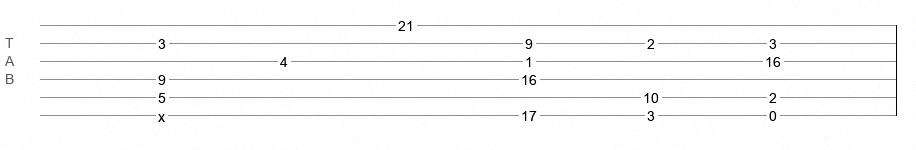0: (769, 108, 777, 118)
1: (525, 54, 533, 64)
10: (643, 90, 659, 100)
16: (521, 72, 537, 82), (765, 54, 781, 64)
17: (521, 108, 537, 118)
2: (647, 36, 655, 46), (769, 90, 777, 100)
21: (398, 18, 414, 28)
3: (158, 36, 166, 46), (647, 108, 655, 118), (769, 36, 777, 46)
4: (280, 54, 288, 64)
5: (158, 90, 166, 100)
9: (158, 72, 166, 82), (525, 36, 533, 46)
x: (158, 109, 165, 117)
